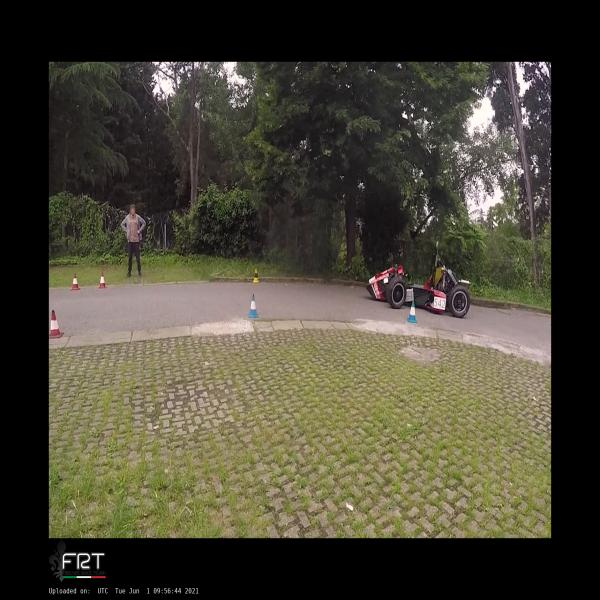blue_cone: (248, 294, 259, 317), (407, 302, 417, 323)
orange_cone: (49, 310, 64, 338), (71, 273, 80, 290), (99, 272, 106, 288)
yellow_cone: (253, 269, 259, 282)
